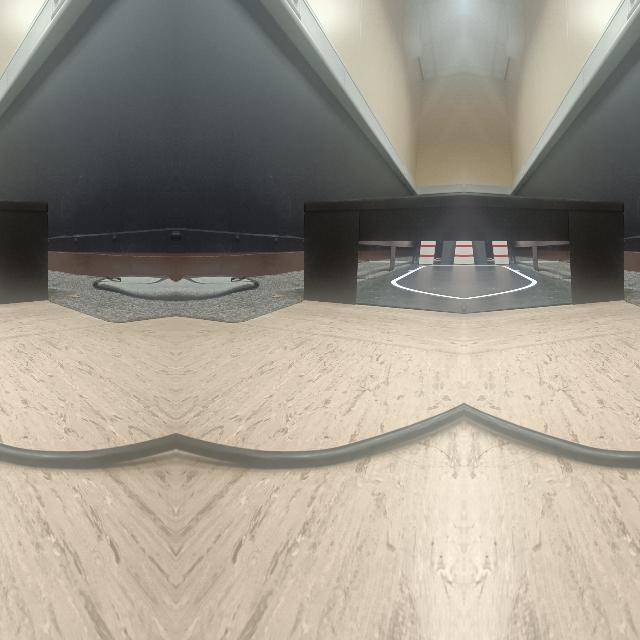obstacle: (300, 200, 464, 306), (464, 200, 628, 306), (176, 414, 464, 470), (463, 414, 640, 470), (0, 414, 173, 470), (0, 200, 50, 306)
